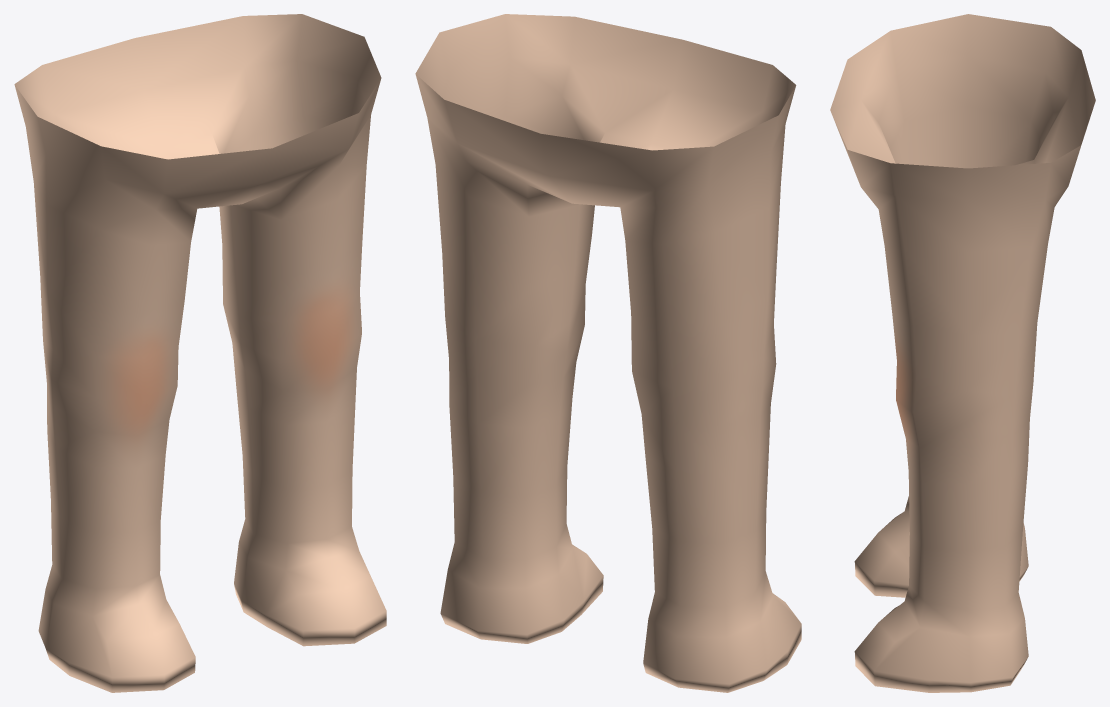
Rendered from Body_White_Bottom_1.fbx.
3 renders of one model, left to right at view 1: azimuth 30°, elevation 25°; view 2: azimuth 150°, elevation 25°; view 3: azimuth 270°, elevation 25°, orthographic. The views are drawn at different scales.
Parts seen in each view (by area): view 1: Body_White_Bottom_1; view 2: Body_White_Bottom_1; view 3: Body_White_Bottom_1.
Boxes of the visible parts, bbox=[...] form: Body_White_Bottom_1: bbox=[14, 14, 386, 692]; Body_White_Bottom_1: bbox=[415, 14, 801, 692]; Body_White_Bottom_1: bbox=[830, 14, 1095, 692].
Bounding box in the file's own units: 34.87 × 55.8 × 25.35.
